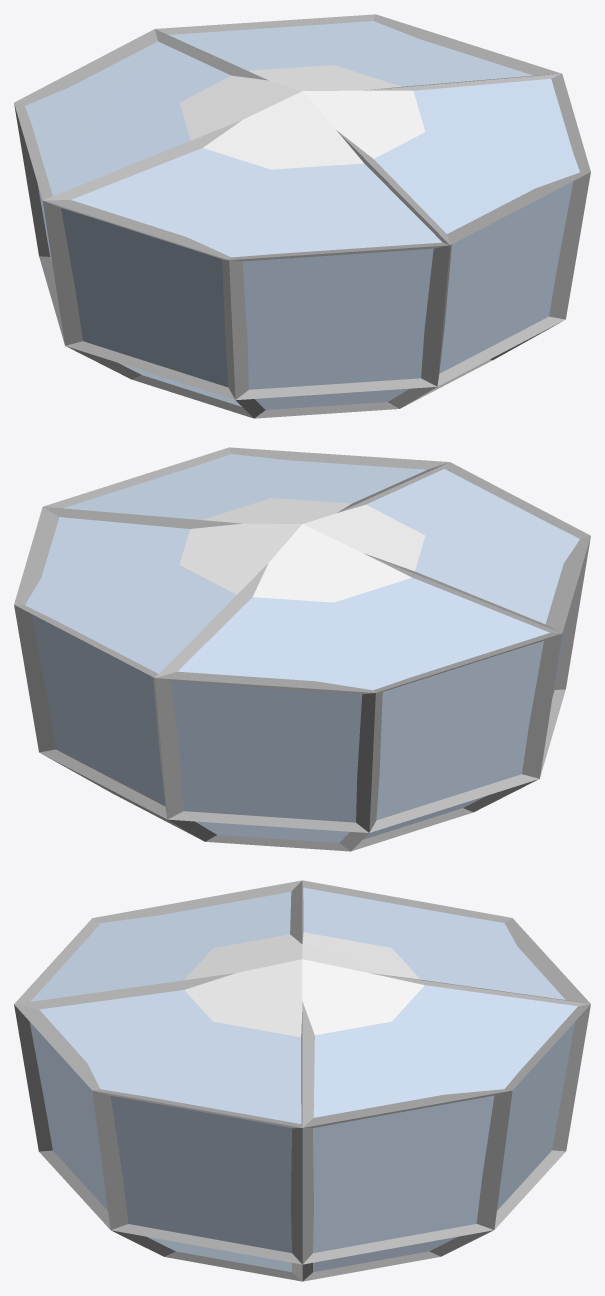
The model's file is LethalLight_nostem.fbx.
The picture shows the model from 3 angles, top to bottom: view 1: azimuth 30°, elevation 25°; view 2: azimuth 150°, elevation 25°; view 3: azimuth 270°, elevation 25°; orthographic projection. The views are drawn at different scales.
Visible parts, largest first — view 1: Mesh; view 2: Mesh; view 3: Mesh.
Part boxes in pixels (<box>): Mesh: <box>14,14,590,418</box>; Mesh: <box>14,447,590,851</box>; Mesh: <box>14,880,590,1281</box>.
Bounding box in the file's own units: 43.17 × 42.5 × 21.41.
